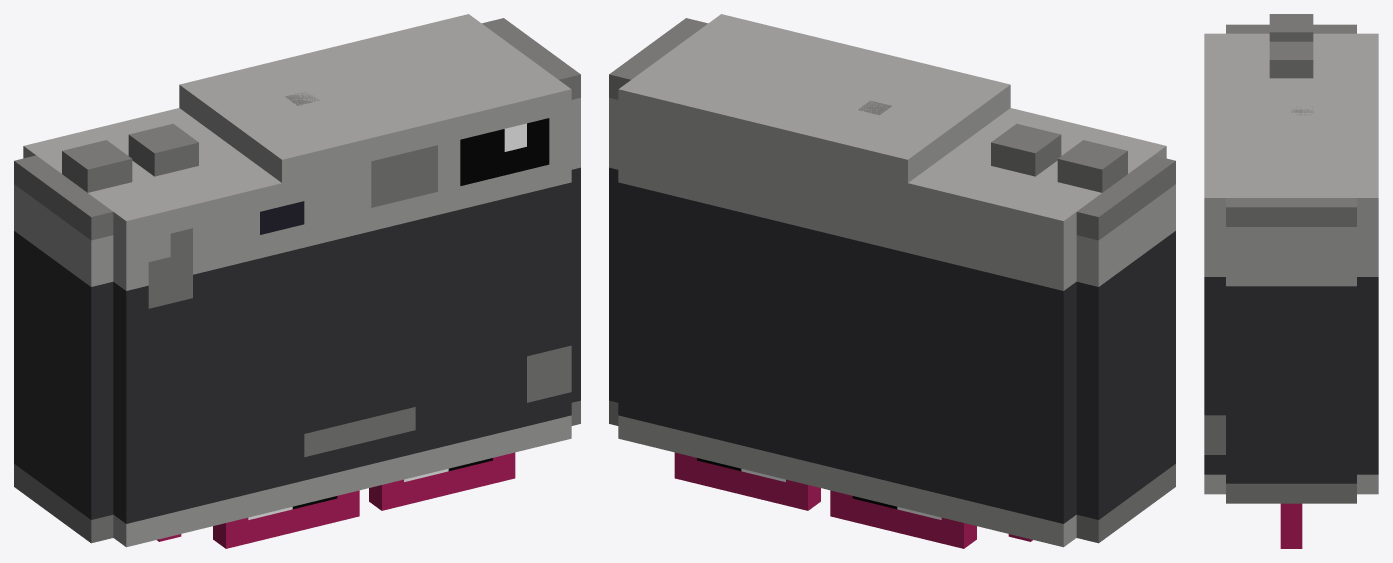
File: camera.glb
The picture shows the model from 3 angles, left to right: view 1: azimuth 30°, elevation 25°; view 2: azimuth 150°, elevation 25°; view 3: azimuth 270°, elevation 25°; orthographic projection. The views are drawn at different scales.
Parts seen in each view (by area): view 1: base, glasses, l1, l2; view 2: base, glasses; view 3: base, glasses.
Part boxes in pixels (bbox=[...]): base: bbox=[14, 14, 580, 547]; glasses: bbox=[157, 452, 515, 548]; l1: bbox=[304, 145, 437, 457]; l2: bbox=[260, 118, 549, 234]; base: bbox=[609, 14, 1175, 547]; glasses: bbox=[674, 452, 1032, 548]; base: bbox=[1204, 14, 1378, 503]; glasses: bbox=[1280, 503, 1302, 548].
Bounding box in the file's own units: 22 × 18 × 8.
10 materials, 10 textured.
